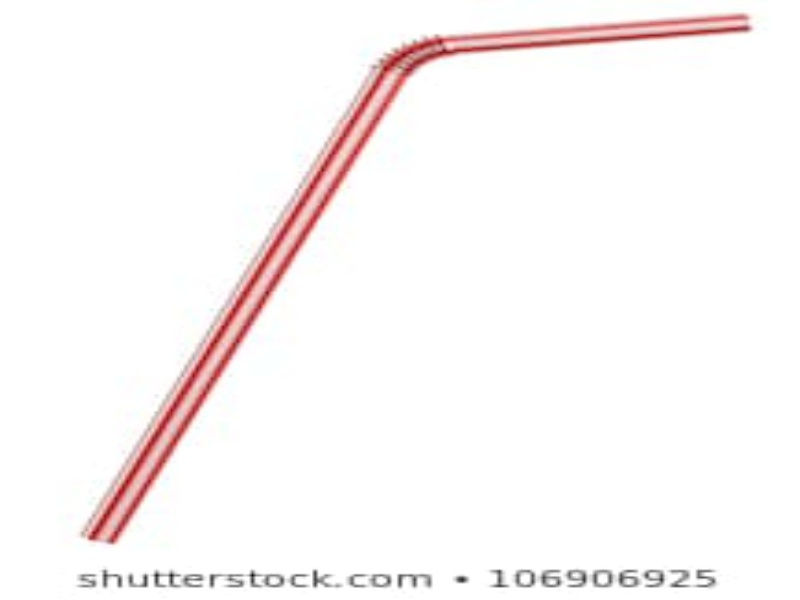straw: (75, 8, 754, 540)
